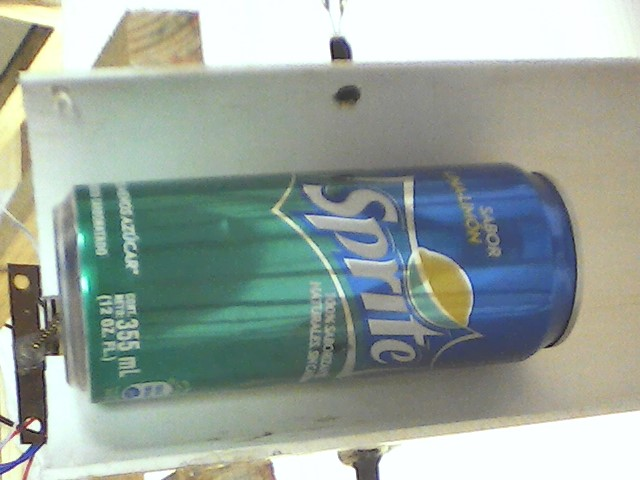lata: (48, 159, 591, 411)
